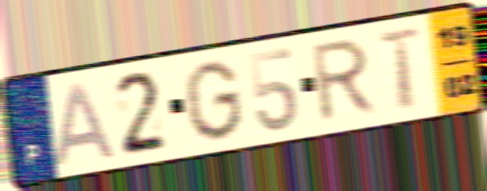2: (111, 69, 167, 159)
5: (247, 45, 300, 134)
A: (51, 79, 120, 170)
G: (181, 58, 246, 143)
R: (310, 35, 380, 127)
T: (375, 24, 426, 112)
